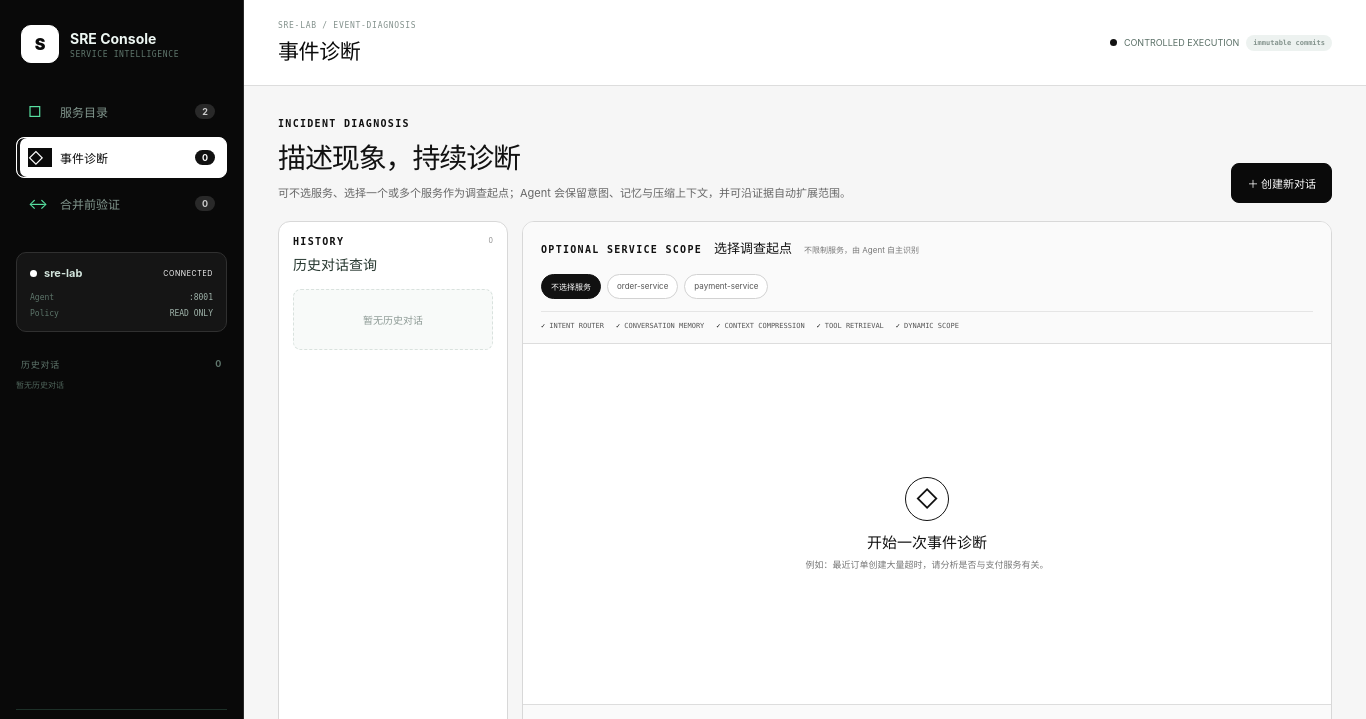
Test: SRE Console › handles chat SSE once, preserves multi-service scope and renders the root cause
Click the button "order-service": x=643, y=286 [607,274,678,299]
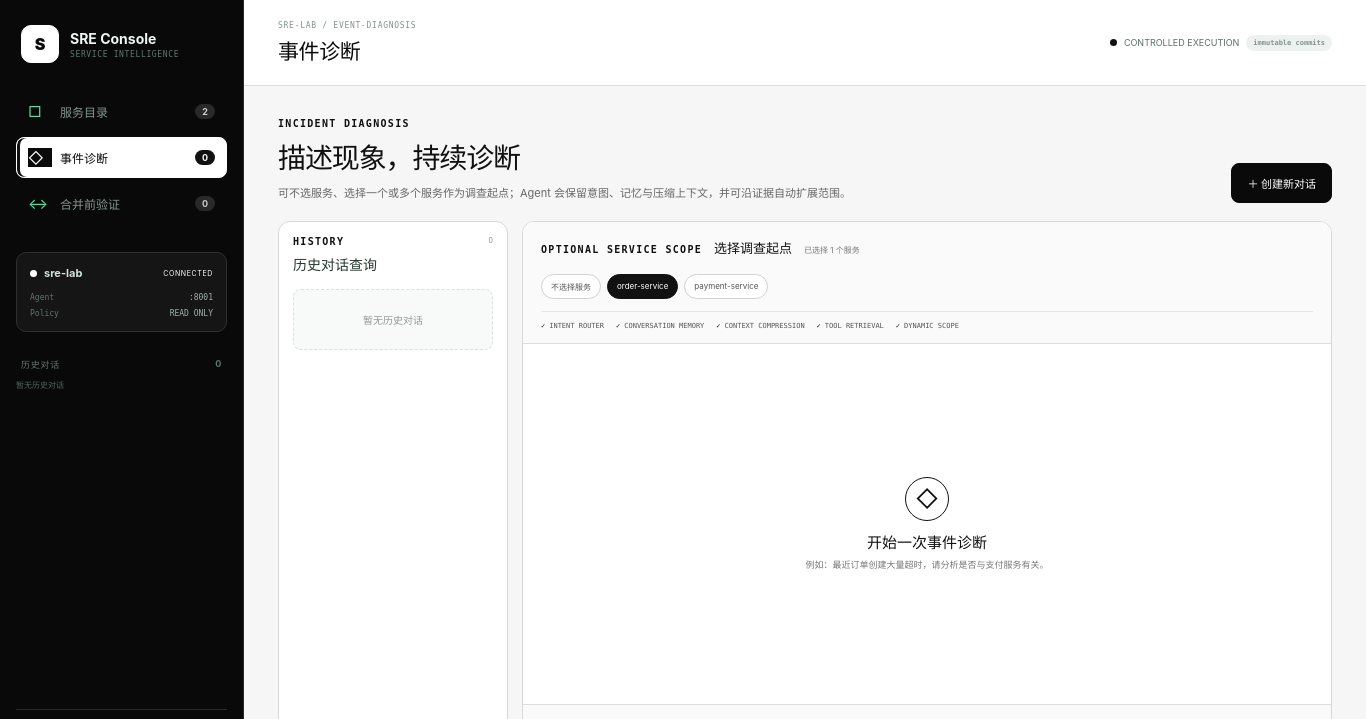
Click the button "payment-service": x=726, y=286 [684,274,768,299]
(page scrolled)
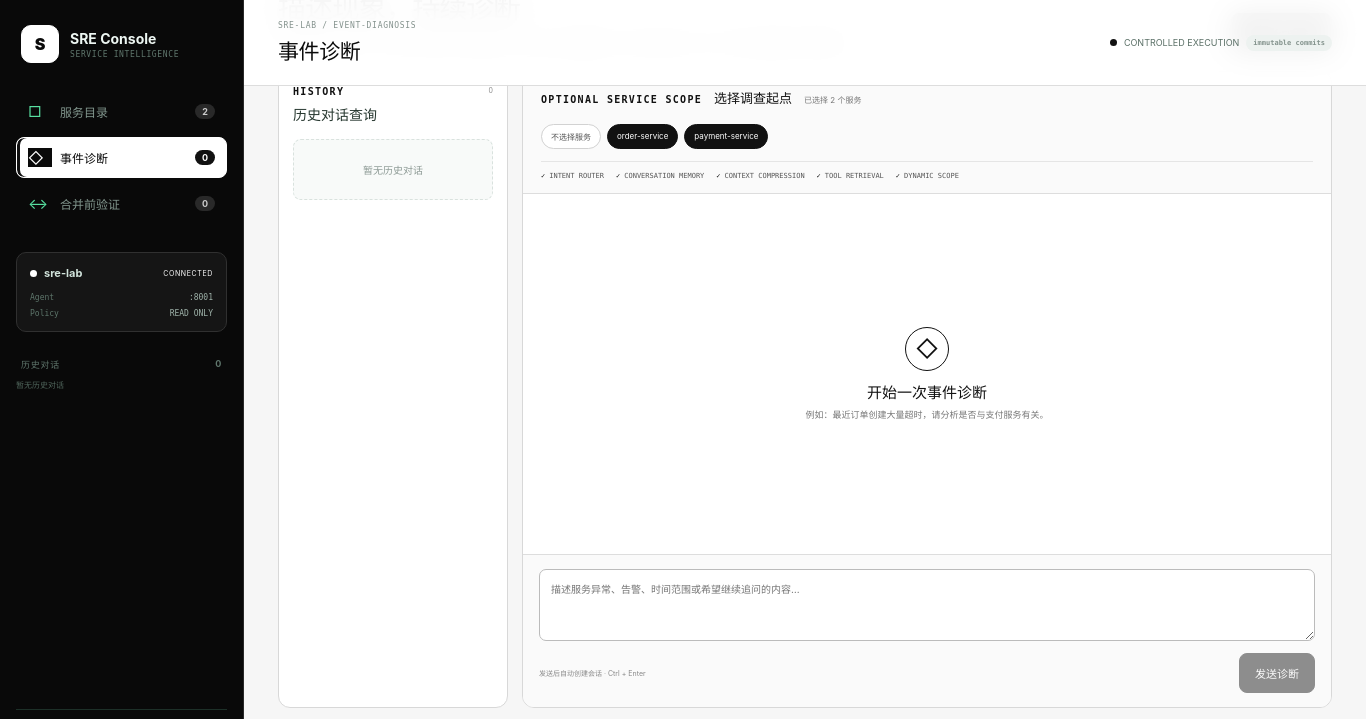
In the text box with placeholder "描述服务异常、告警、时间范围或希望继续追问的内容…": x=927, y=605 [539,569,1315,641], type "订单支付为什么超时"
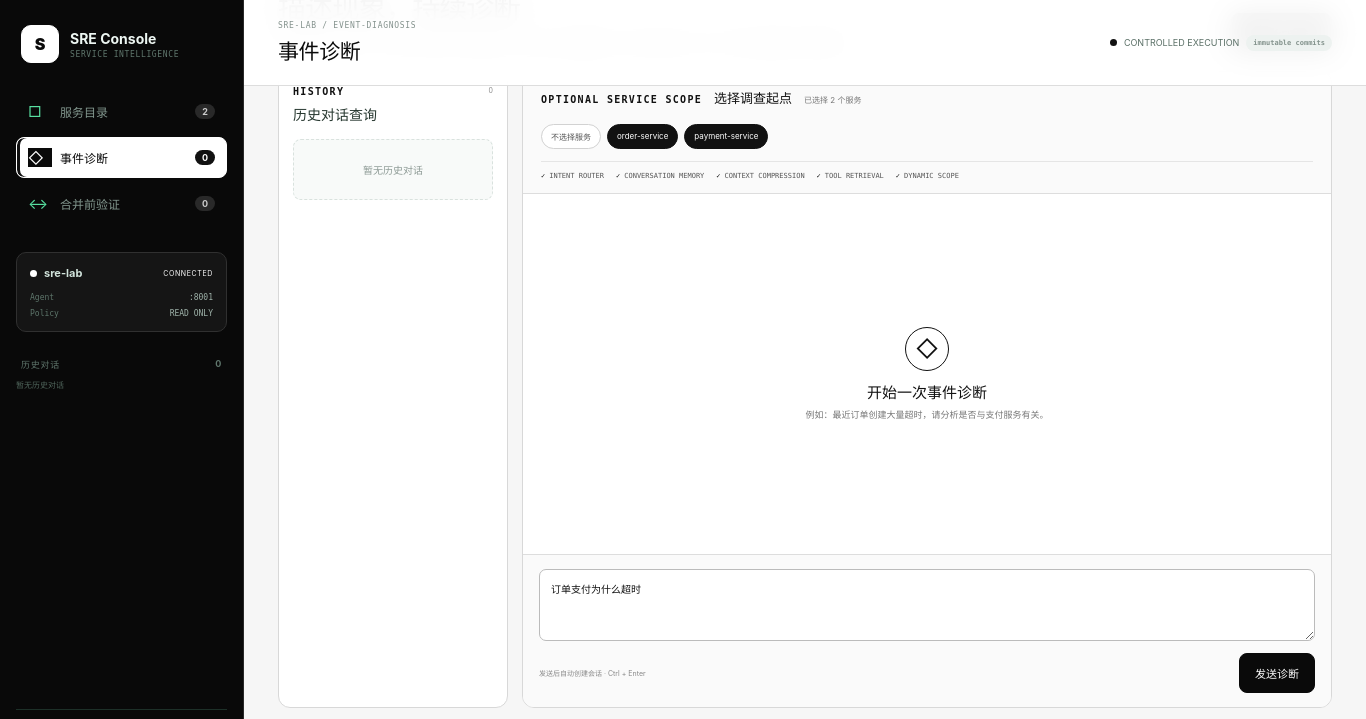
Submit the form with class "chat-composer", box [523,554,1331,707]
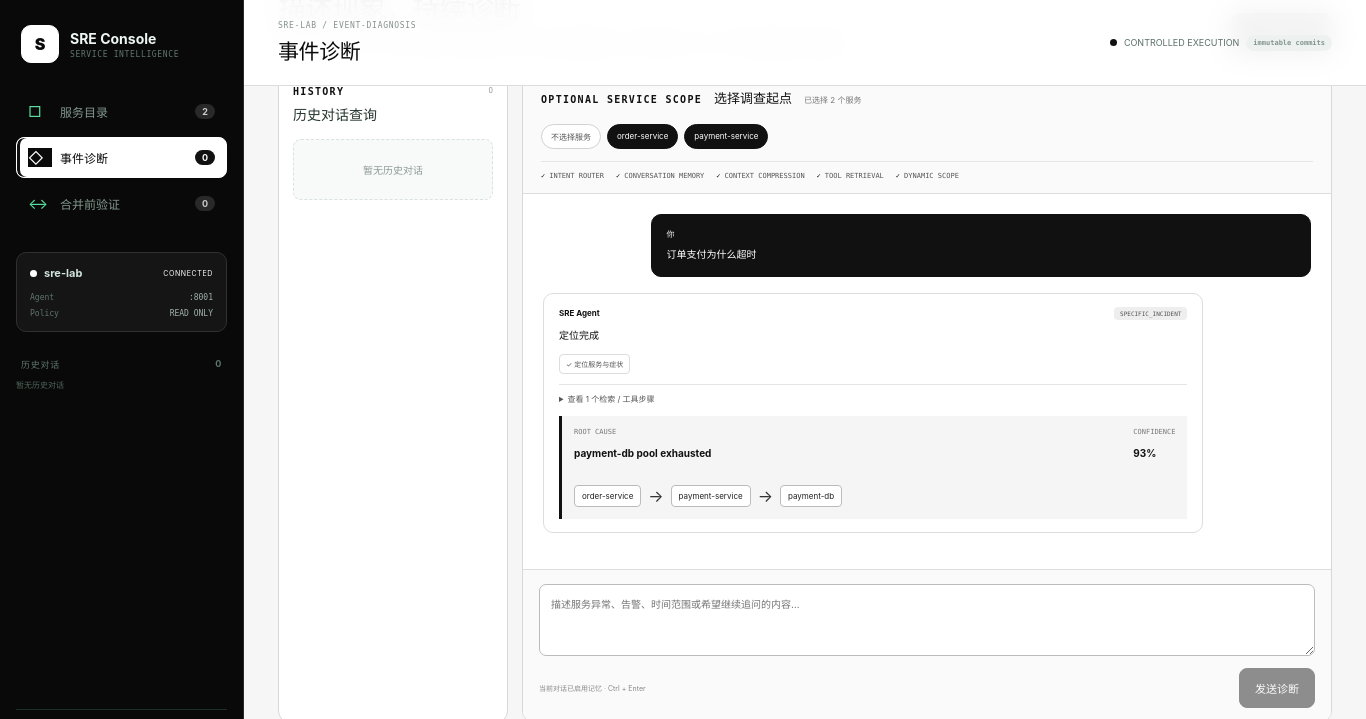
Check: the text "payment-db pool exhausted" is shown, box [574,447,711,459]
Check: the text "93%" is shown, box [1133,447,1156,459]
